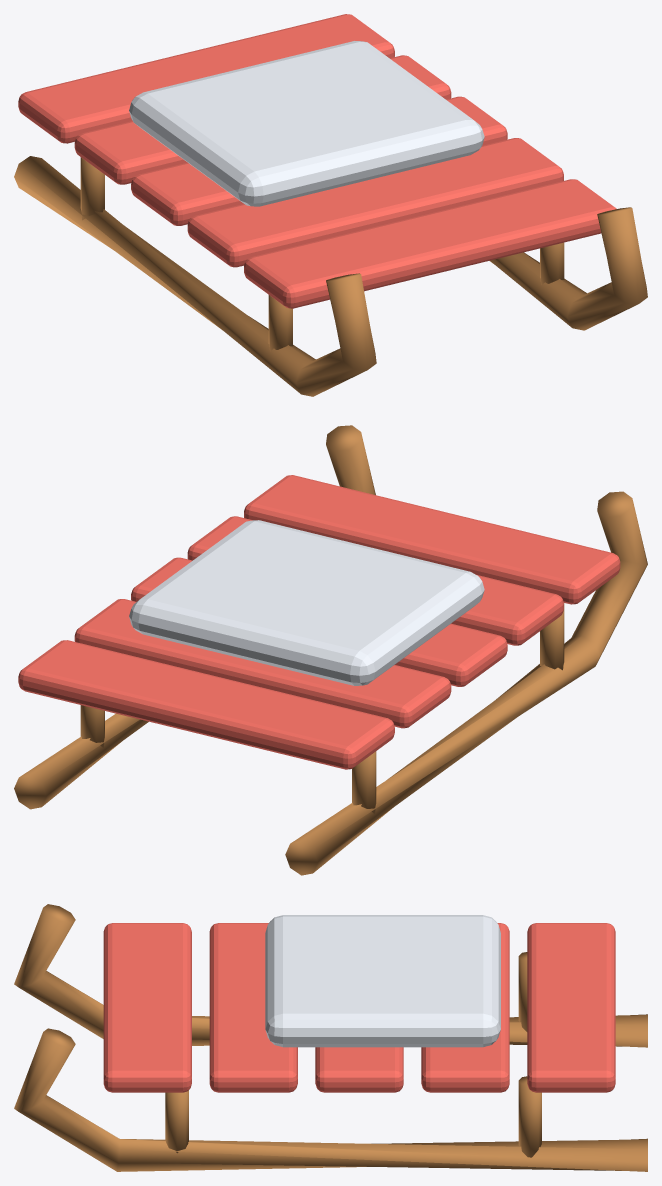
The model's file is Car_Sled.fbx.
3 views of the same model, one above another, from view 1: azimuth 30°, elevation 25°; view 2: azimuth 150°, elevation 25°; view 3: azimuth 270°, elevation 25° (orthographic). The views are drawn at different scales.
Parts seen in each view (by area): view 1: Car_Sled; view 2: Car_Sled; view 3: Car_Sled.
Boxes of the visible parts, x1,y1,x2,y2 form: Car_Sled: (14, 14, 647, 396); Car_Sled: (14, 425, 647, 875); Car_Sled: (14, 904, 647, 1171).
Bounding box in the file's own units: 0.62 × 0.27 × 1.08.
